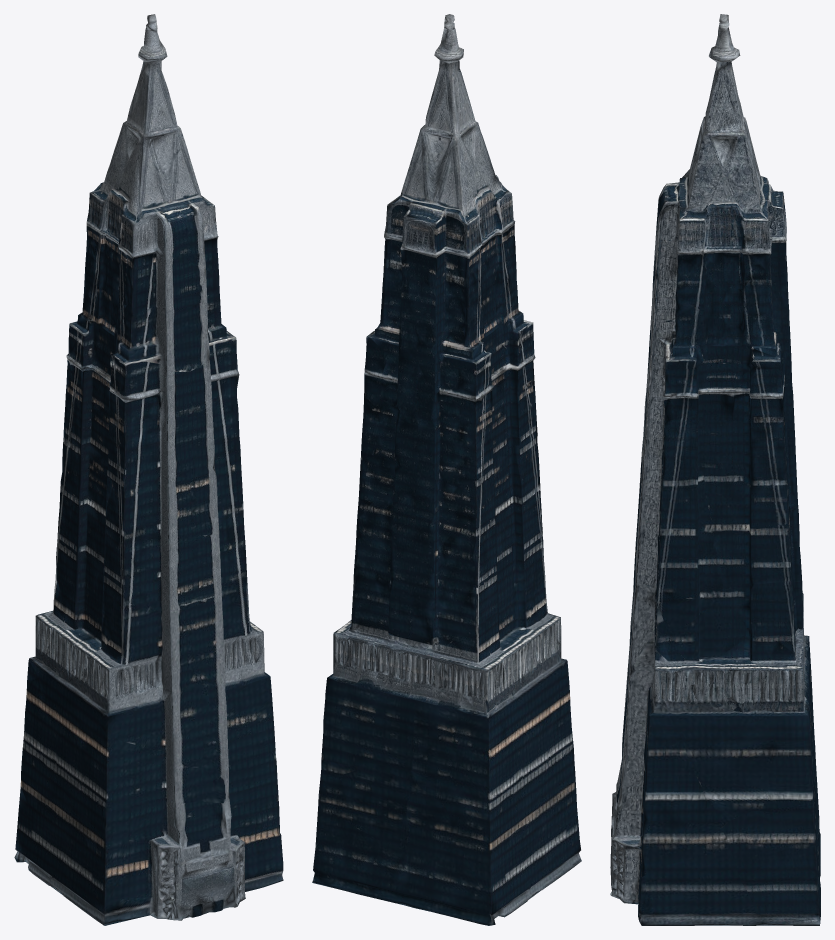
The model's file is tower_g.glb.
3 views of the same model, side by side, from view 1: azimuth 30°, elevation 25°; view 2: azimuth 150°, elevation 25°; view 3: azimuth 270°, elevation 25° (orthographic).
Bounding box in the file's own units: 0.3948 × 1.79 × 0.3935.
Materials: 1 (1 with a texture image).
